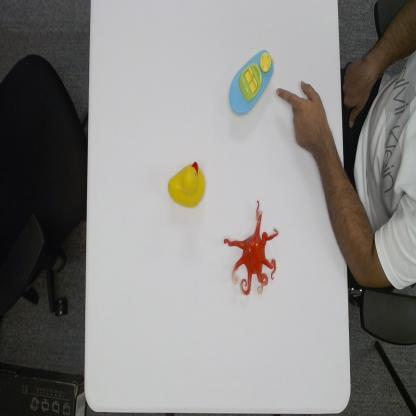Arm: (314, 138, 356, 275)
Boat: (228, 47, 276, 116)
Duck: (166, 159, 206, 209)
Hand: (275, 79, 332, 153)
Octopus: (222, 198, 279, 299)
